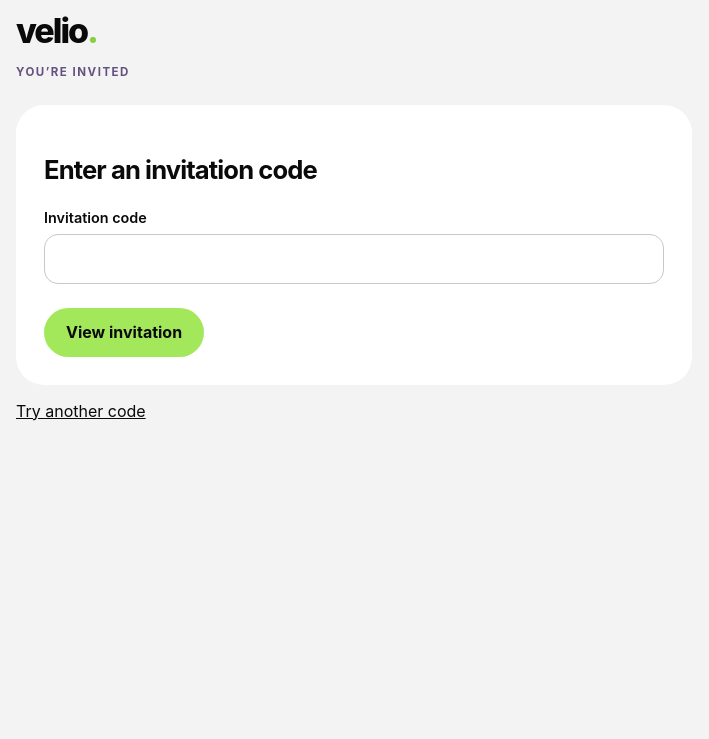
Test: code entry rejects a malformed code locally and a connection failure offers retry with the code kept
Type "short" into the field labelled "Invitation code" at (354, 259), box [44,234,664,284]
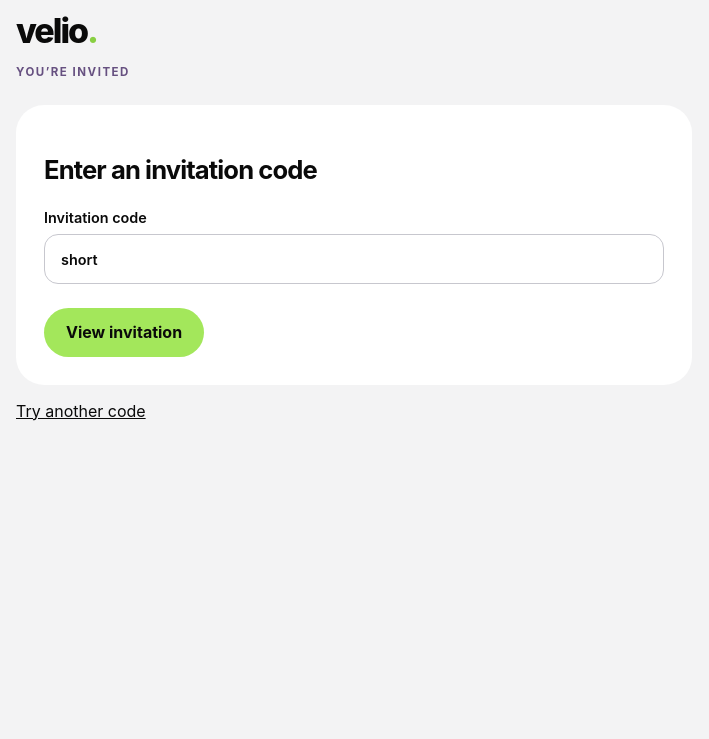
Click the button "View invitation" at (124, 332), box [44,308,204,357]
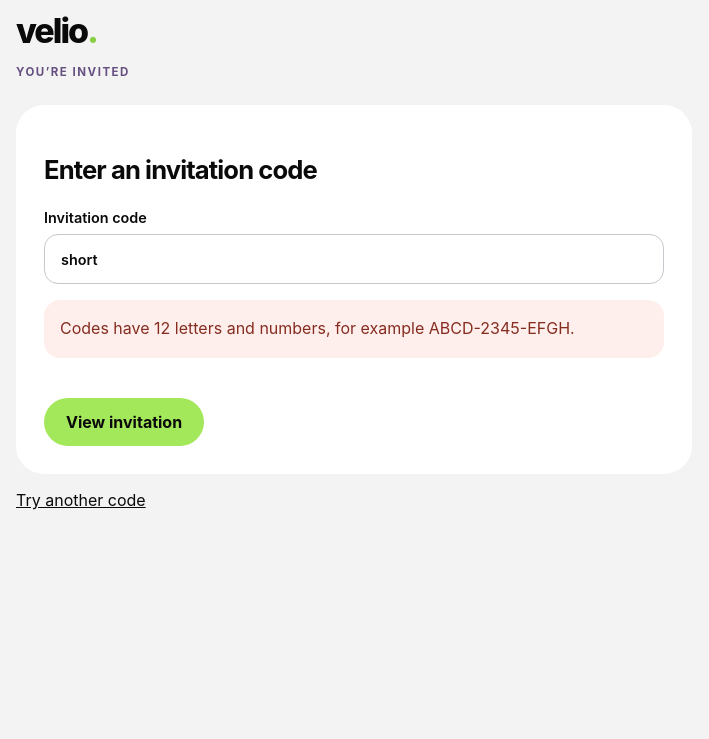
Expected: the text "Codes have 12 letters and numbers, for example ABCD-2345-EFGH." is shown, [44,300,664,358]
Replace the text in the field labelled "Invitation code" with "ABCD2345EFGH" at (354, 259), box [44,234,664,284]
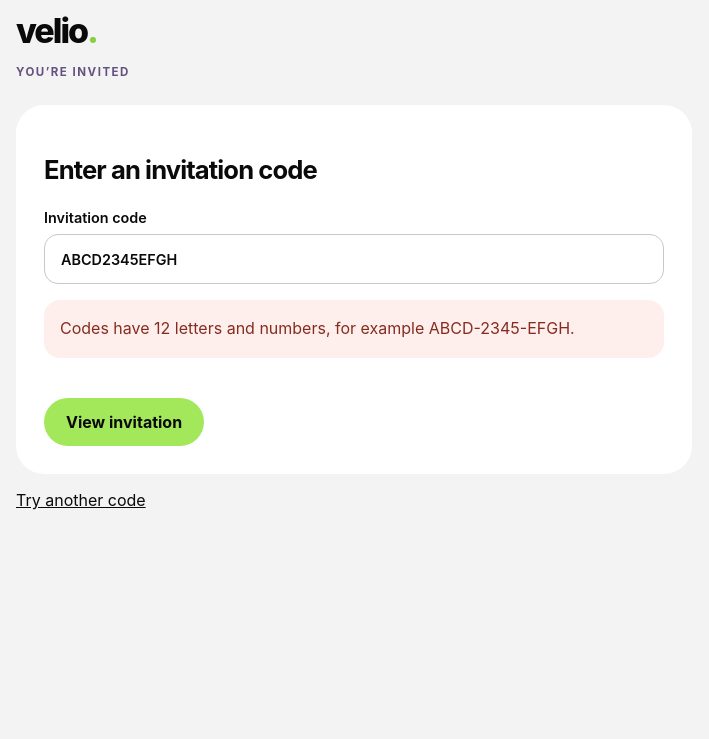
Click the button "View invitation" at (124, 422), box [44,398,204,446]
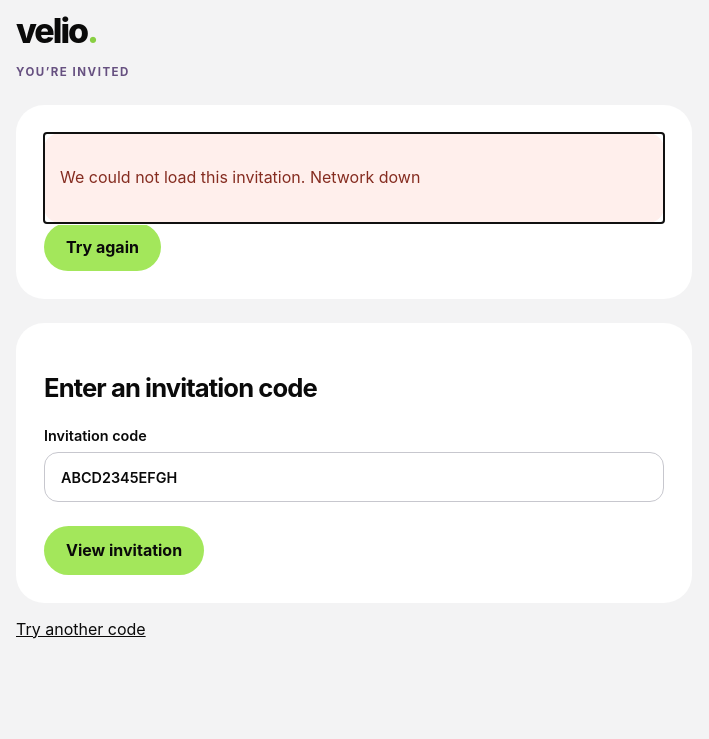
Expected: the button "Try again" is shown
Click the button "Try again" at (102, 247), box [44,222,161,271]
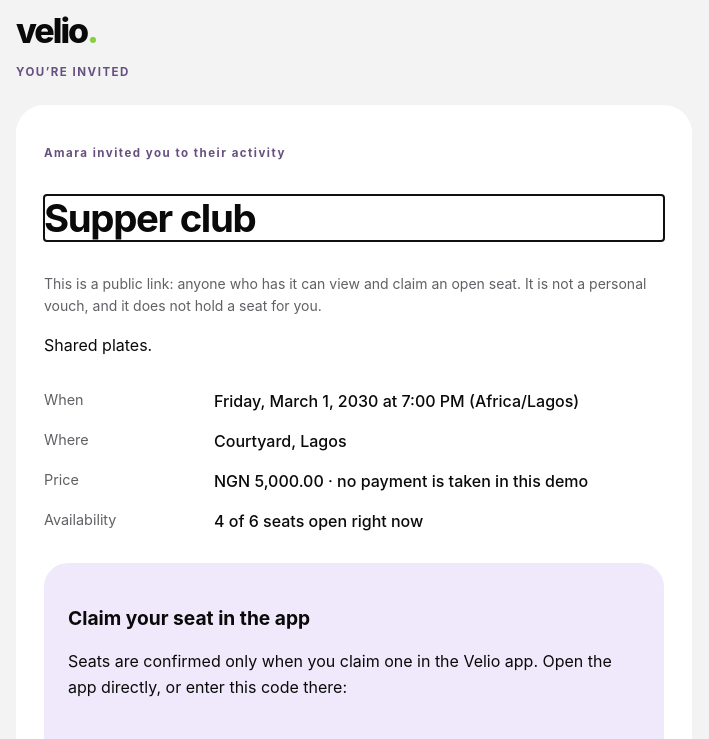
Expected: the heading "Supper club" is shown, [44,195,255,241]
